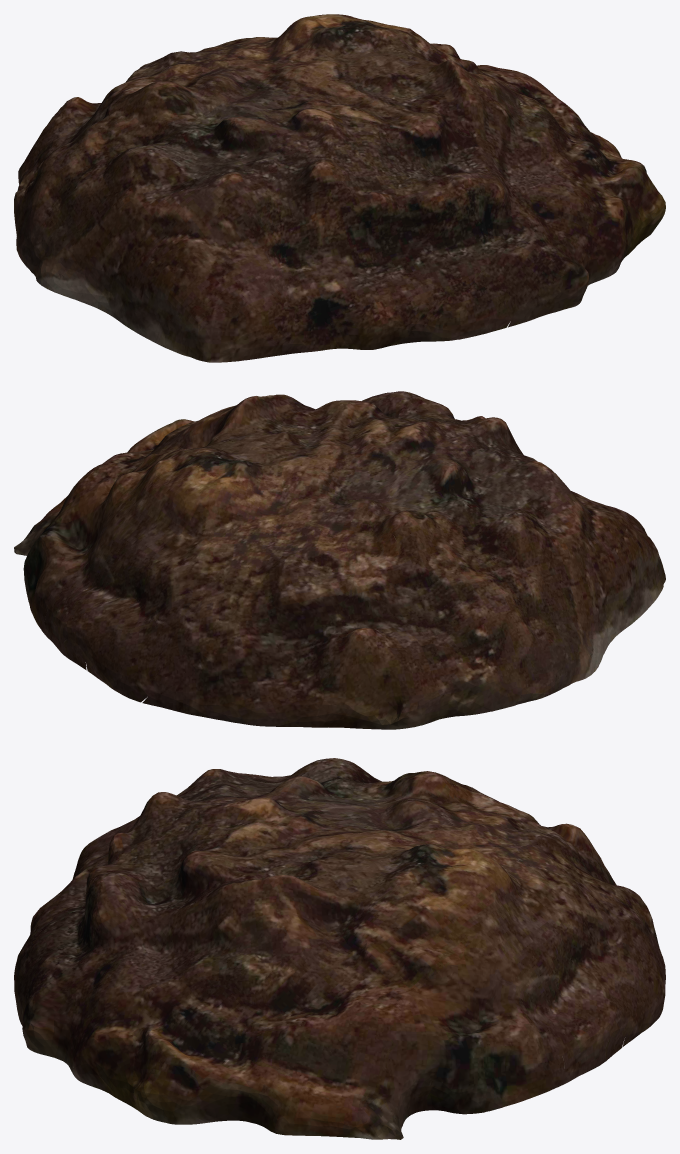
File: chocolate-chili-cookies.gltf
3 renders of one model, top to bottom at view 1: azimuth 30°, elevation 25°; view 2: azimuth 150°, elevation 25°; view 3: azimuth 270°, elevation 25°, orthographic. The views are drawn at different scales.
Size of the model in its own units: 0.4302 by 0.1169 by 0.4054.
Materials: 1 (1 with a texture image).
